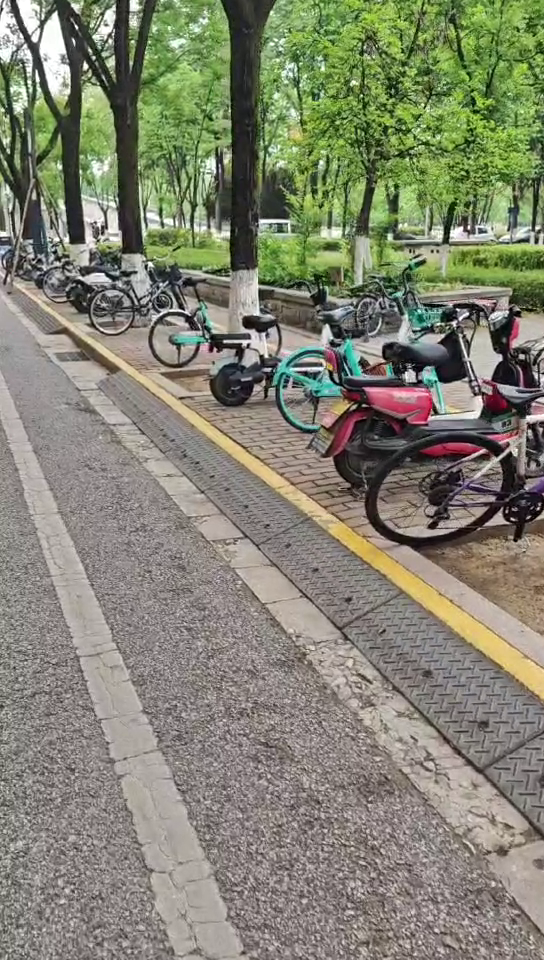others: (355, 303, 543, 473), (208, 285, 341, 405), (93, 262, 188, 330)
shared_bike_qingcong: (289, 272, 444, 433), (149, 266, 282, 366)
